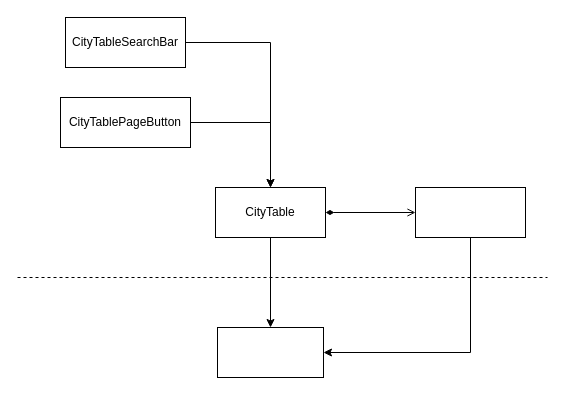
Some shapes in this 566 by 395 pixel diagram are drawn without their labels. The shapes that lost their labels are listed below. From the top down, each one's centre as x and y in pixels, then its label:
(x=470, y=212): CityTableRow
(x=270, y=352): CityRepository
